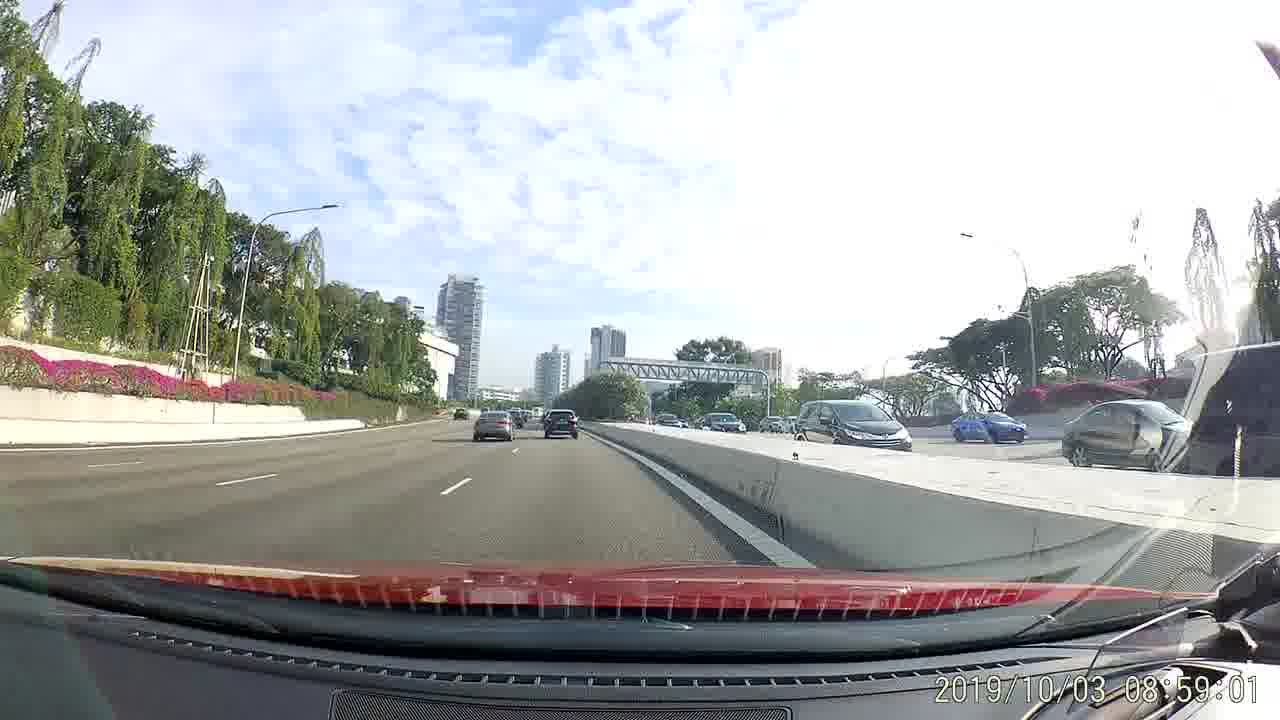car: (1061, 391, 1195, 470), (792, 396, 915, 453), (947, 411, 1030, 443), (471, 410, 520, 441), (543, 408, 579, 437), (704, 411, 745, 432), (755, 411, 792, 433), (655, 411, 683, 427), (454, 406, 468, 421)
